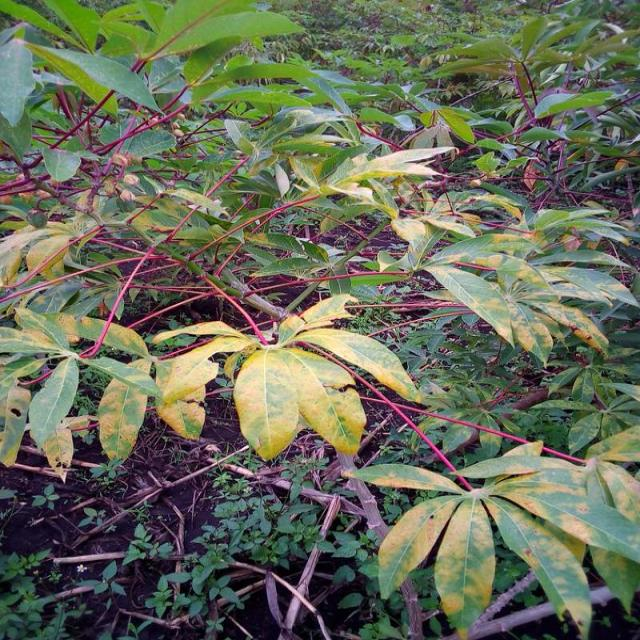cassava leaf: (233, 343, 367, 461)
